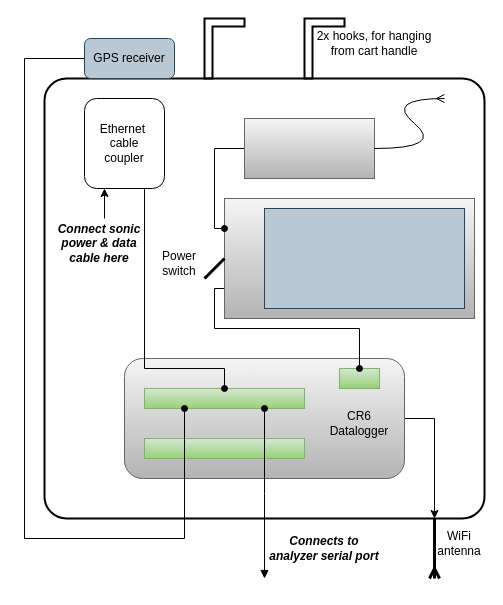
The diagram is 503 pixels wide and 605 high, and some of its shapes have lost their labels. Here are the shapes that lost their labels. From the top down, the centre of each, then its label:
At pixel 309 148: "24V power supply, for recharging".
At pixel 364 258: "7AH rechargeable 12V battery".
